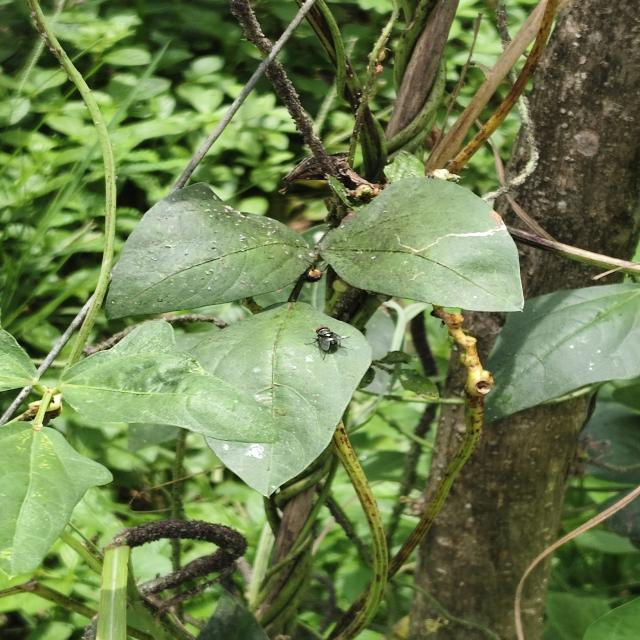leaf-low: (484, 283, 640, 422)
sitaw-aphid-high: (201, 303, 371, 494), (105, 183, 316, 319), (319, 178, 524, 312), (62, 350, 279, 443), (0, 422, 112, 580)
sitaw-aphid-moderate: (111, 519, 248, 597)
